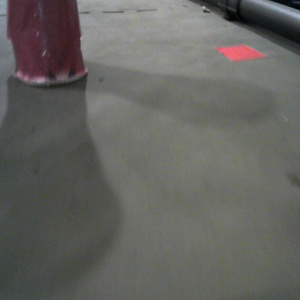Middle: (5, 1, 88, 86)
